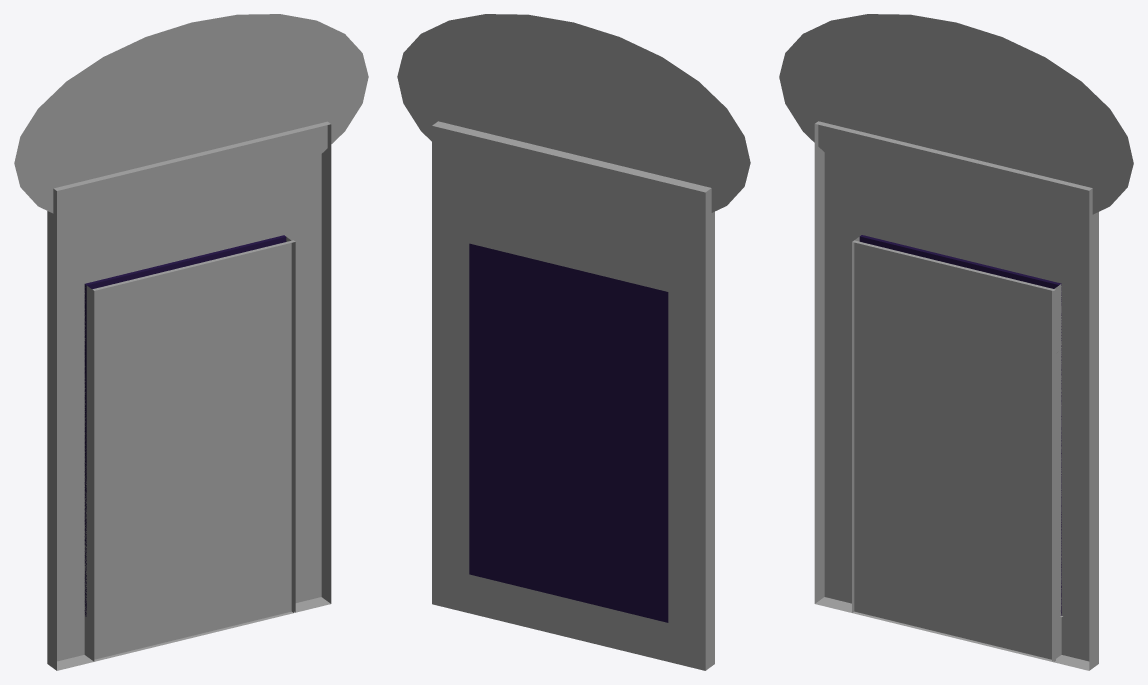
Rendered from PlinkoMachineTesting_MDL.fbx.
3 views of the same model, side by side, from view 1: azimuth 30°, elevation 25°; view 2: azimuth 150°, elevation 25°; view 3: azimuth 330°, elevation 25° (orthographic).
Visible parts, largest first — view 1: PlinkoMachine_MainBase_MDL, PlinkoMachine_GlassPane_MDL; view 2: PlinkoMachine_MainBase_MDL, PlinkoMachine_GlassPane_MDL; view 3: PlinkoMachine_MainBase_MDL, PlinkoMachine_GlassPane_MDL.
Part boxes in pixels (<box>): PlinkoMachine_MainBase_MDL: <box>14,14,368,670</box>; PlinkoMachine_GlassPane_MDL: <box>84,235,286,616</box>; PlinkoMachine_MainBase_MDL: <box>397,14,750,670</box>; PlinkoMachine_GlassPane_MDL: <box>469,243,668,622</box>; PlinkoMachine_MainBase_MDL: <box>779,14,1133,670</box>; PlinkoMachine_GlassPane_MDL: <box>859,235,1061,615</box>.
Size of the model in its own units: 190 by 314 by 9.
